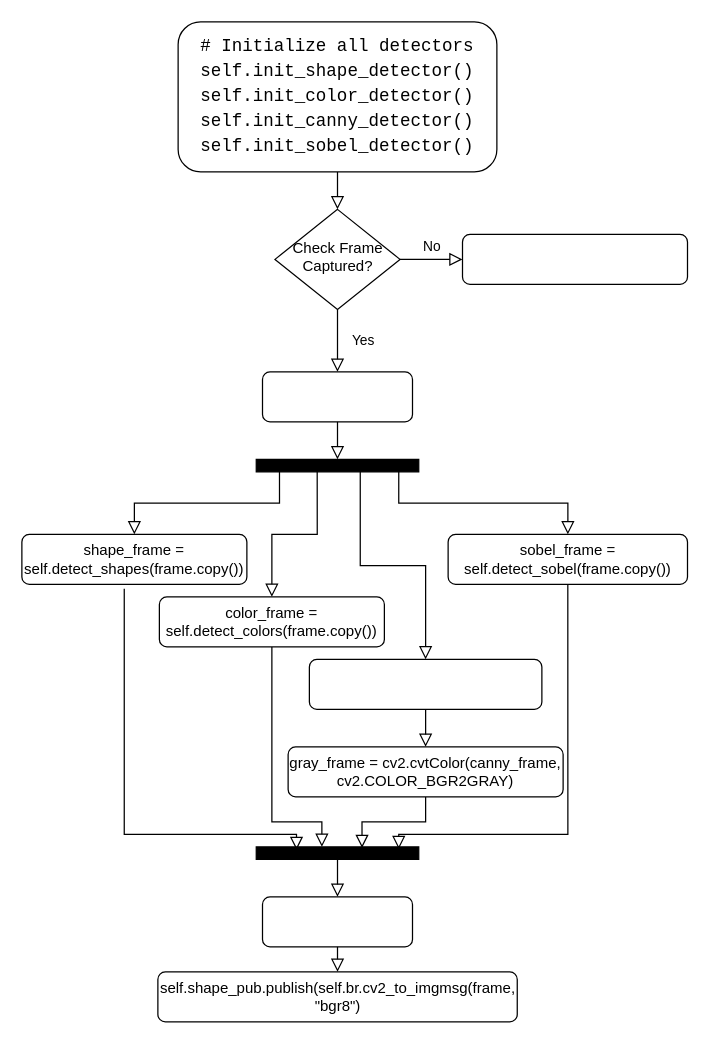
This 710x1044 diagram has some shape labels left out. Each missing label, with the centre of its shape:
canny_frame = self.detect_canny(frame.copy()): pixel 425 683
cv2.imshow(): pixel 336 921
frame = self.cap.read(): pixel 336 396
self.get_logger().warn("Failed to capture frame"): pixel 574 258
